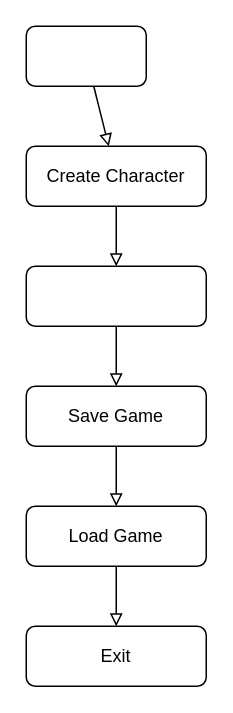
The diagram is 233 pixels wide and 713 high, and some of its shapes have lost their labels. The centre of each missing label's shape, as x and y in pixels:
"Delete Character" goes at point (115, 295).
"Start" goes at point (85, 55).
